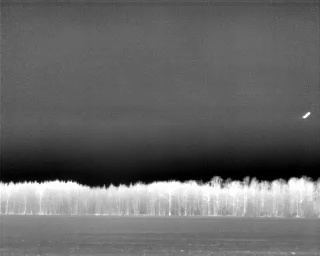DRONE: (299, 108, 314, 123)
